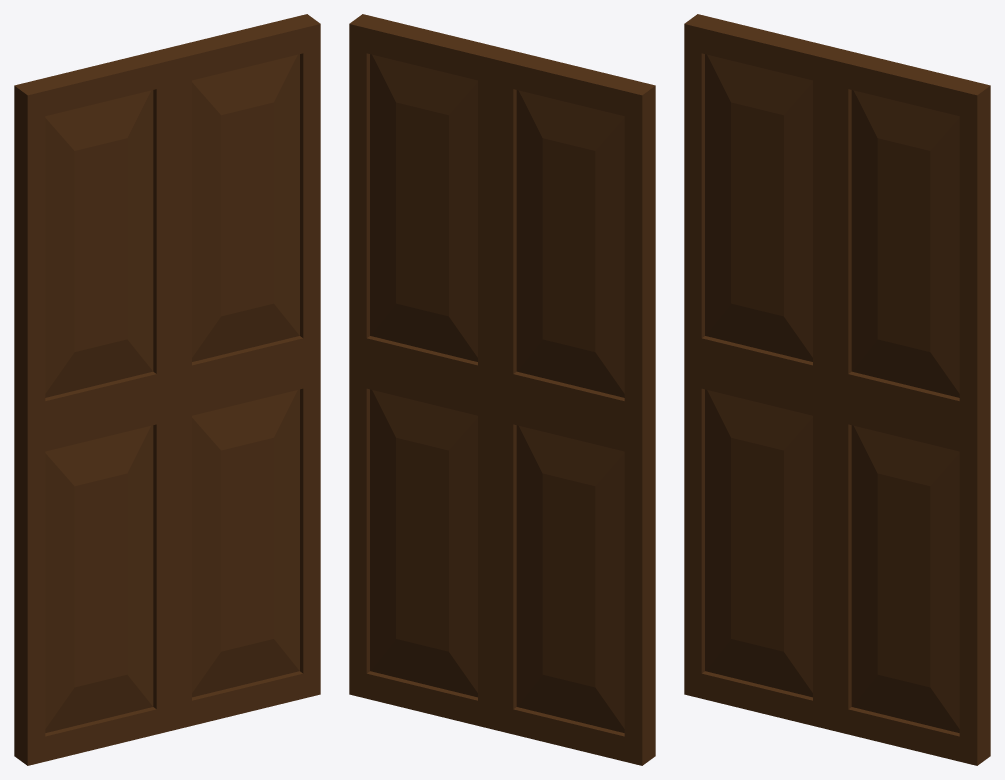
The model's file is Door.FBX.
The picture shows the model from 3 angles, left to right: view 1: azimuth 30°, elevation 25°; view 2: azimuth 150°, elevation 25°; view 3: azimuth 330°, elevation 25°; orthographic projection.
Visible parts, largest first — view 1: Door; view 2: Door; view 3: Door.
Part boxes in pixels (x1,y1,x2,y2): Door: [14, 14, 320, 765]; Door: [349, 14, 655, 765]; Door: [684, 14, 990, 765].
Bounding box in the file's own units: 100 × 219 × 8.
